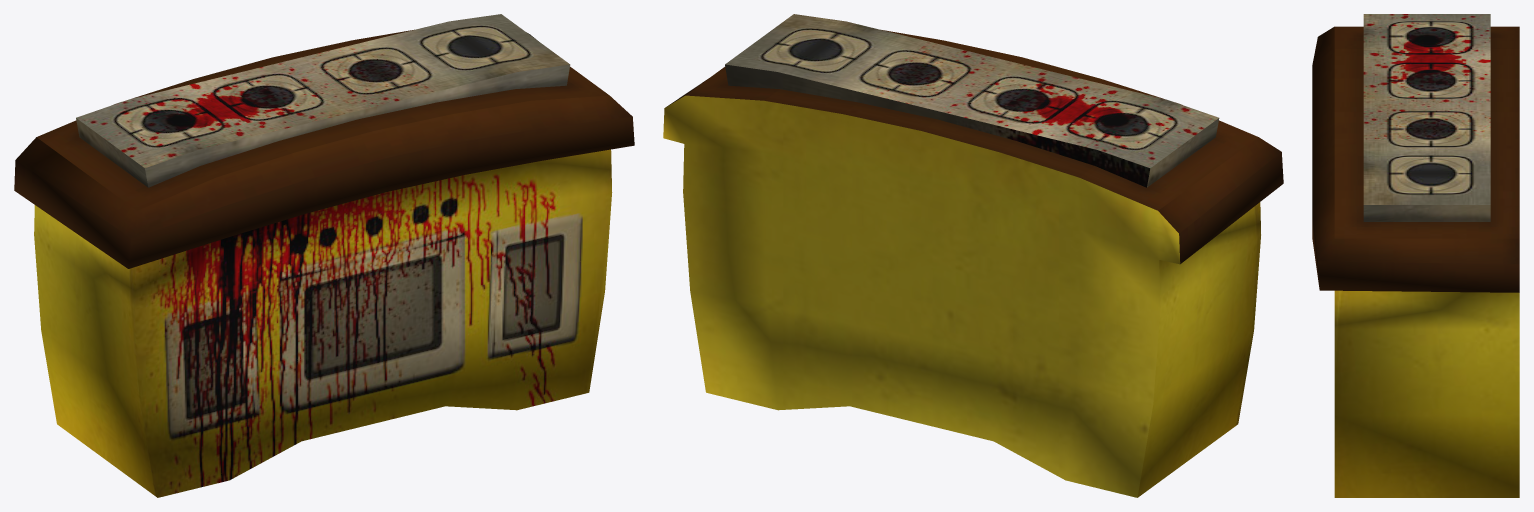
The model's file is gas-stove.FBX.
3 views of the same model, side by side, from view 1: azimuth 30°, elevation 25°; view 2: azimuth 150°, elevation 25°; view 3: azimuth 270°, elevation 25° (orthographic). The views are drawn at different scales.
Visible parts, largest first — view 1: Box003; view 2: Box003; view 3: Box003.
Part boxes in pixels (left/top/right/bottom): Box003: left=14, top=14, right=634, bottom=497; Box003: left=663, top=14, right=1283, bottom=497; Box003: left=1312, top=14, right=1519, bottom=497.
Bounding box in the file's own units: 82.03 × 48.92 × 31.01.
1 material, 1 textured.
